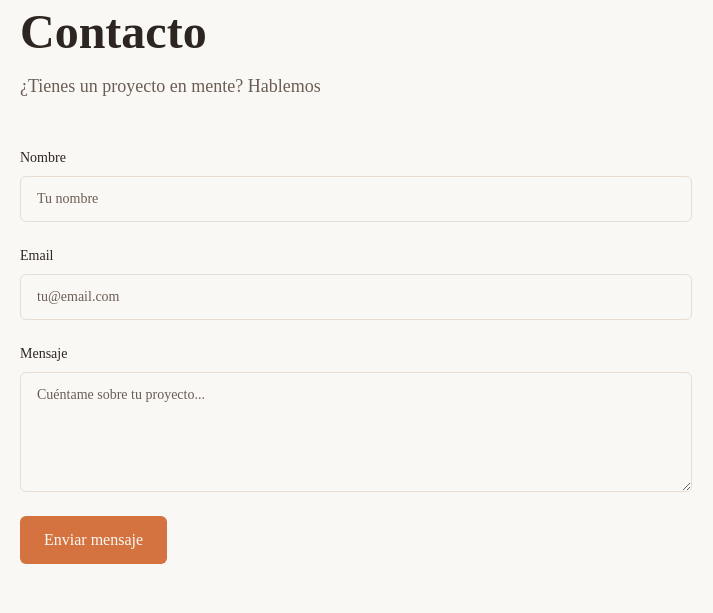
Contact Section › Validation › should show error when email is invalid
The width and height of the screenshot is (713, 613).
In the field labelled "Nombre": (356, 199) [20, 176, 692, 222], type "John Doe"
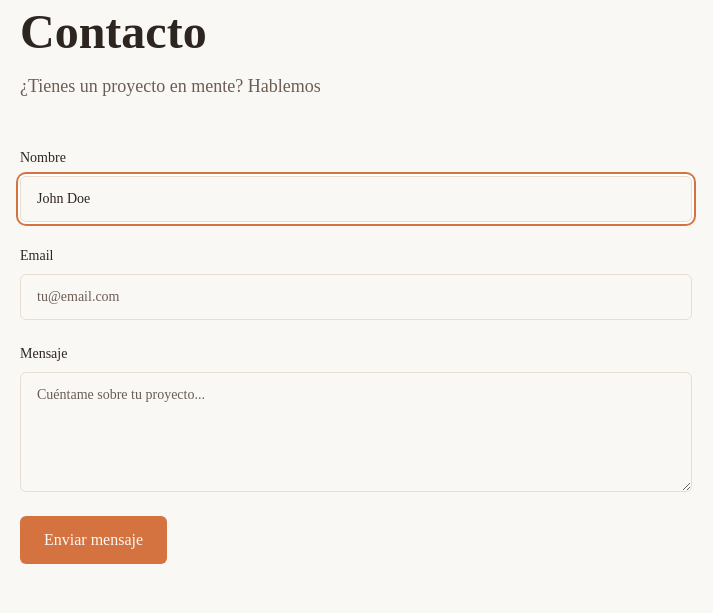
In the field labelled "Email": (356, 297) [20, 274, 692, 320], type "invalid-email"
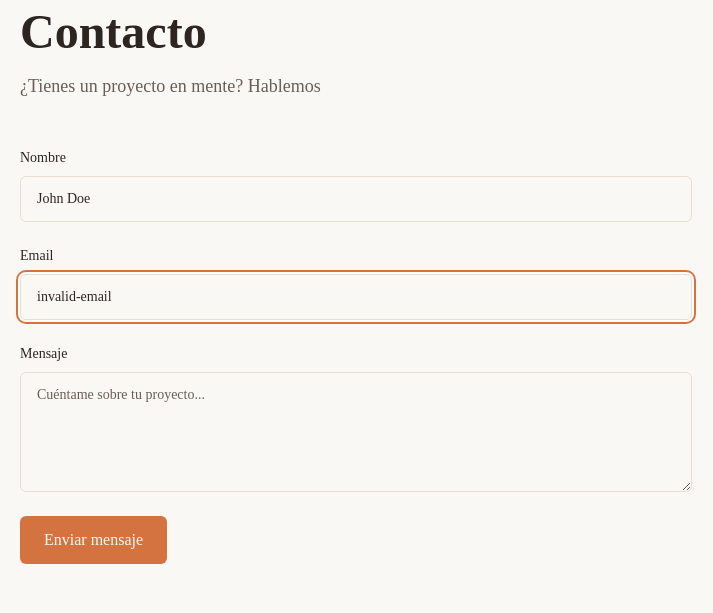
In the text box labelled "Mensaje": (356, 432) [20, 372, 692, 492], type "This is a test message"
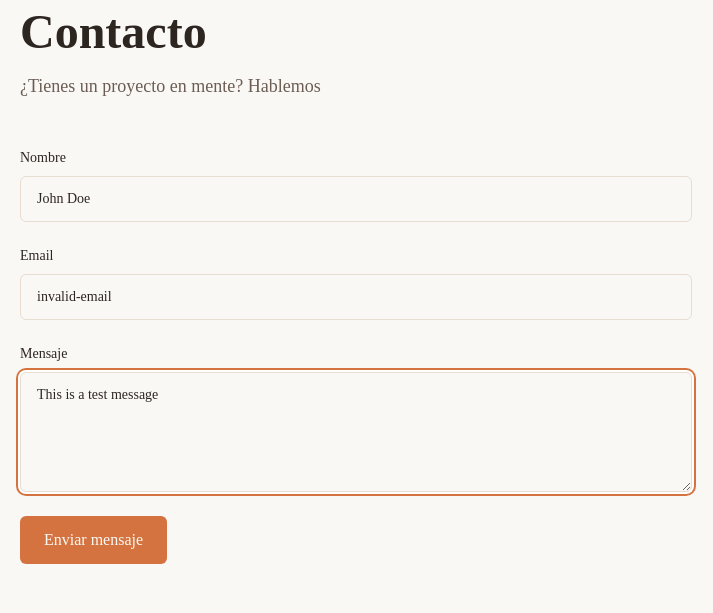
Click the button "Enviar mensaje": (94, 540) [20, 516, 167, 564]
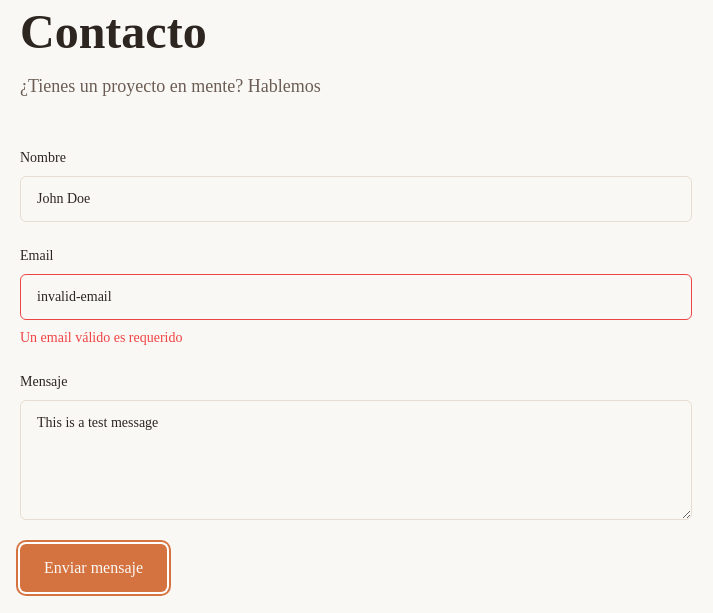
Expected: the text "Un email válido es requerido" is shown, [20, 330, 182, 345]
